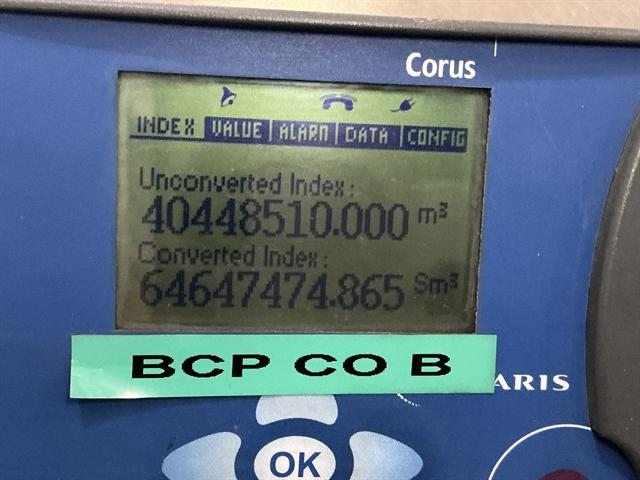digital_screen: (115, 72, 491, 335)
